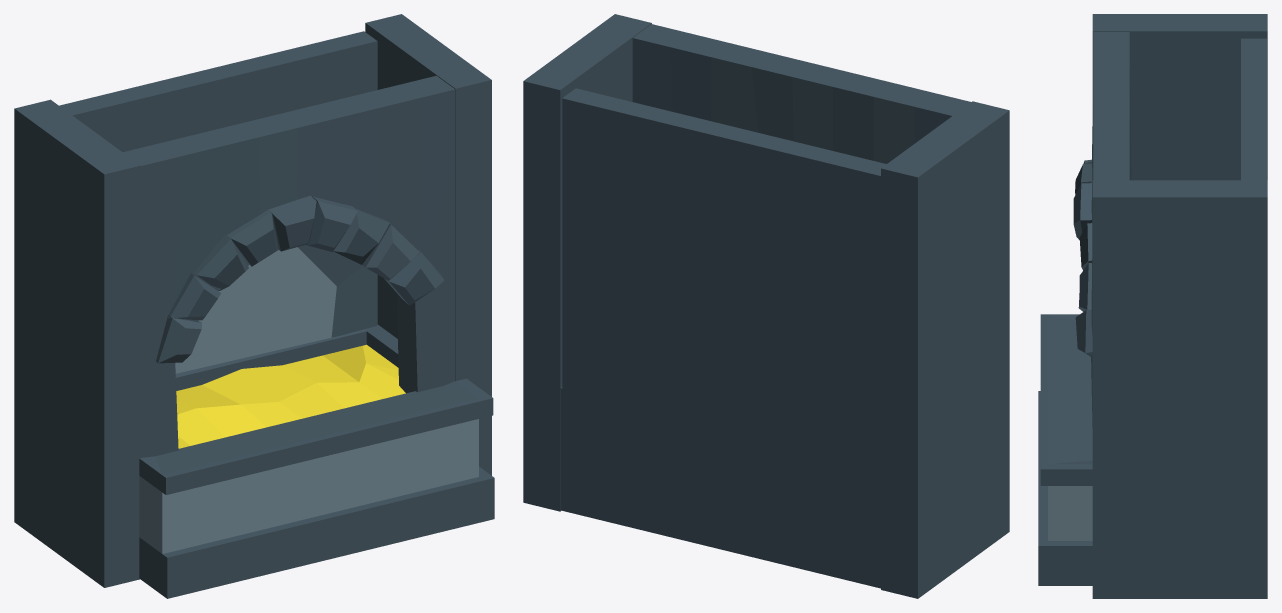
File: forge.glb
3 renders of one model, left to right at view 1: azimuth 30°, elevation 25°; view 2: azimuth 150°, elevation 25°; view 3: azimuth 270°, elevation 25°, orthographic. The views are drawn at different scales.
Visible parts, largest first — view 1: group1268647231, group1599215280.001, group1873367850, group934222239, group1599215280, group24978605, group1300837711, group2099257331, group1998217973, group1034800651, group1140447845, group483830983 (+2 smaller); view 2: group934222239, group1599215280.001, group1268647231, group1873367850, group1599215280; view 3: group1599215280, group1599215280.001, group1268647231, group1873367850, group934222239, group1300837711, group483830983, group1140447845, group1998217973, group24978605.
Boxes of the visible parts, x1,y1,x2,y2 form: group1268647231: (139,324,494,598); group1599215280.001: (14,99,140,587); group1873367850: (123,75,455,457); group934222239: (59,31,377,373); group1599215280: (365,14,491,475); group24978605: (269,195,316,251); group1300837711: (306,196,357,251); group2099257331: (227,209,278,266); group1998217973: (333,209,389,264); group1034800651: (194,234,248,290); group1140447845: (362,224,419,280); group483830983: (384,249,444,305); group934222239: (562,88,886,465); group1599215280.001: (881,101,1009,598); group1268647231: (560,387,880,588); group1873367850: (632,24,971,163); group1599215280: (523,14,651,511); group1599215280: (1092,180,1267,598); group1599215280.001: (1092,14,1267,180); group1268647231: (1038,314,1092,585); group1873367850: (1091,32,1131,427); group934222239: (1241,38,1266,180); group1300837711: (1073,183,1091,240); group483830983: (1075,309,1092,356); group1140447845: (1078,263,1091,311); group1998217973: (1079,223,1092,270); group24978605: (1075,164,1092,194).
Size of the model in its own units: 1.82 by 1.86 by 0.962.
